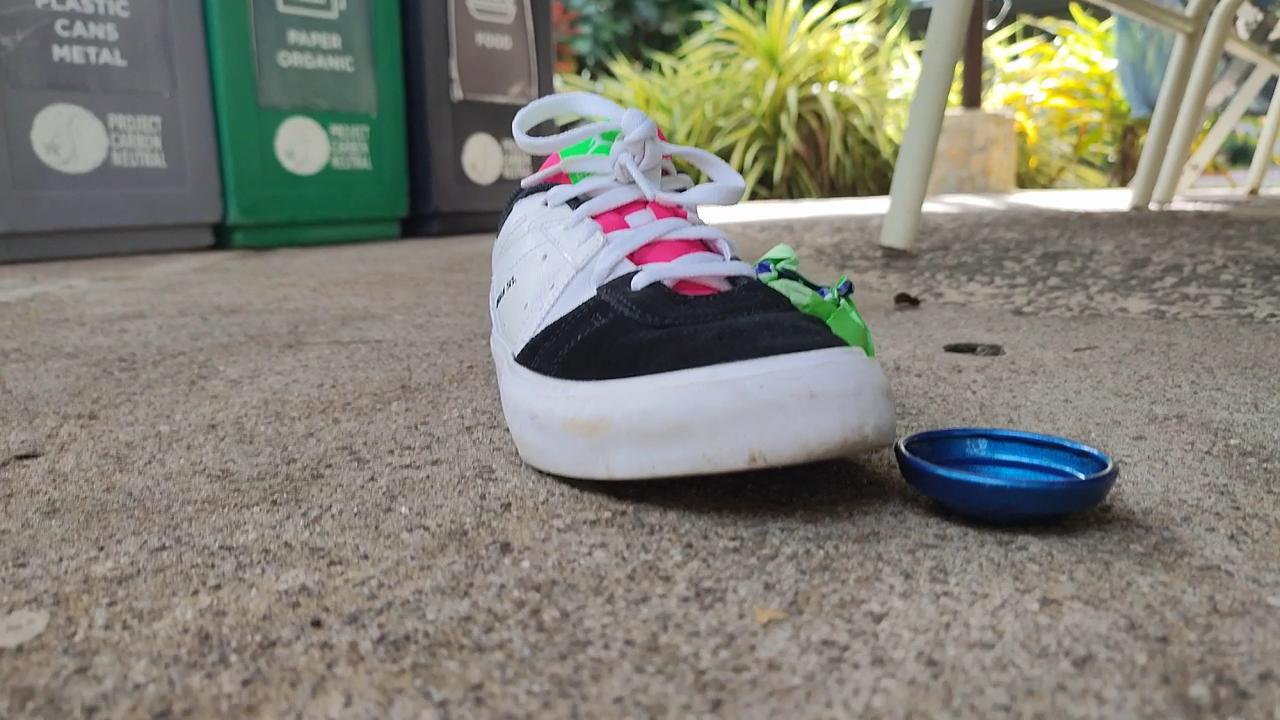Paper: (747, 228, 880, 369)
